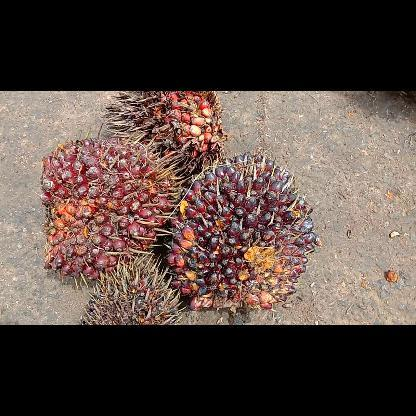Kurang masak: (163, 150, 319, 314)
TBS abnormal: (79, 256, 185, 324)
TBS masak: (39, 136, 178, 282)
Terlalu masak: (101, 91, 227, 175)
